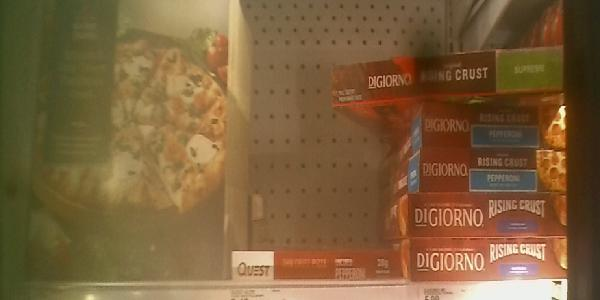pizza1: (29, 1, 229, 277)
pizza2: (325, 44, 559, 97), (424, 99, 565, 148), (407, 238, 567, 280), (407, 197, 569, 237), (418, 152, 568, 194), (228, 251, 403, 277)
